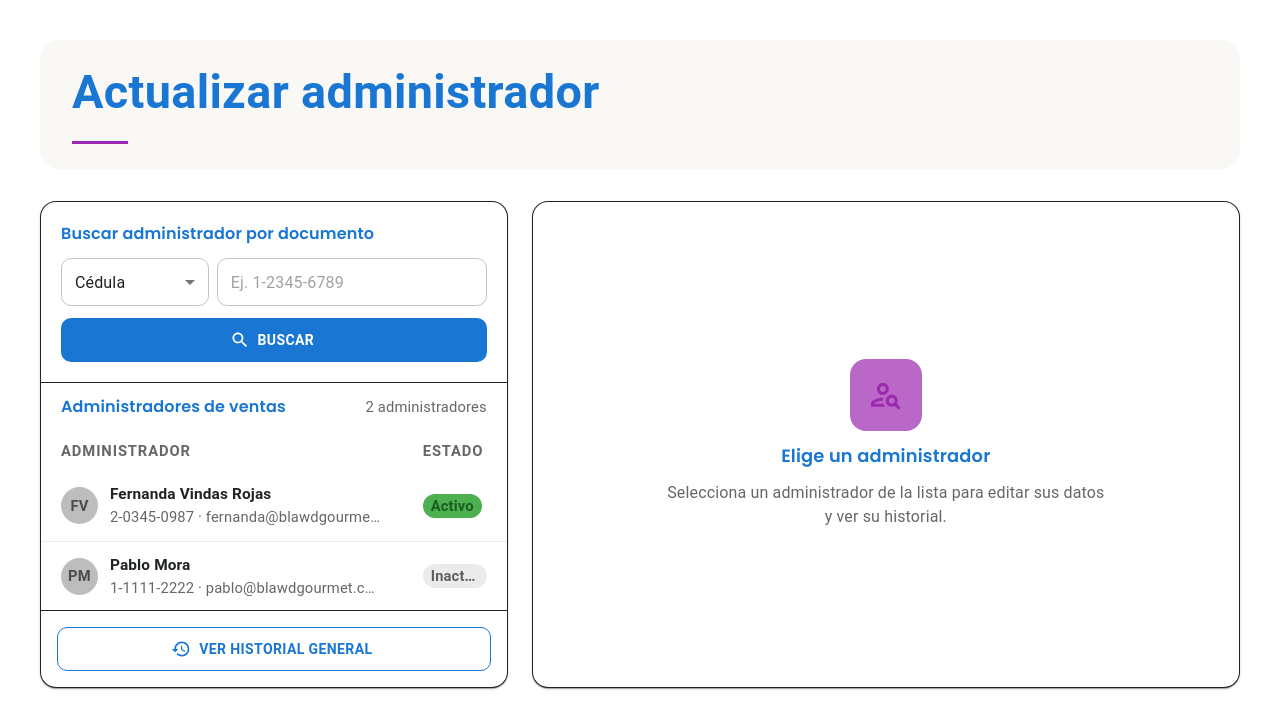
Test: EditAdmin (HU-007 · Tasks 93, 94 y 95) › Task 93 · búsqueda y formulario prellenado › busca por tipo y número de documento y avisa si no hay coincidencias
The width and height of the screenshot is (1280, 720).
Expected: the text "Fernanda Vindas Rojas" is shown, [110,485,271,503]
Type "1-1111-2222" into the field named "Número de documento" at (352, 282), box [217,258,487,306]
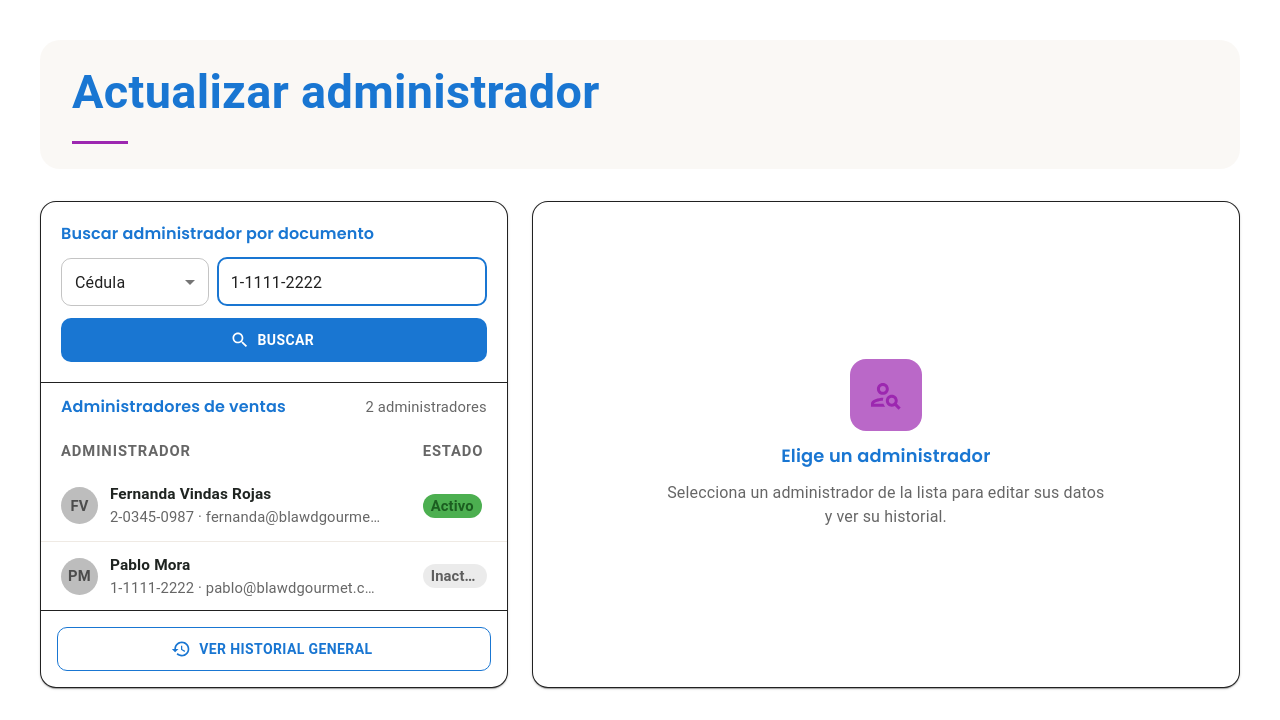
Click the button "Buscar" at (274, 340), box [61,318,487,362]
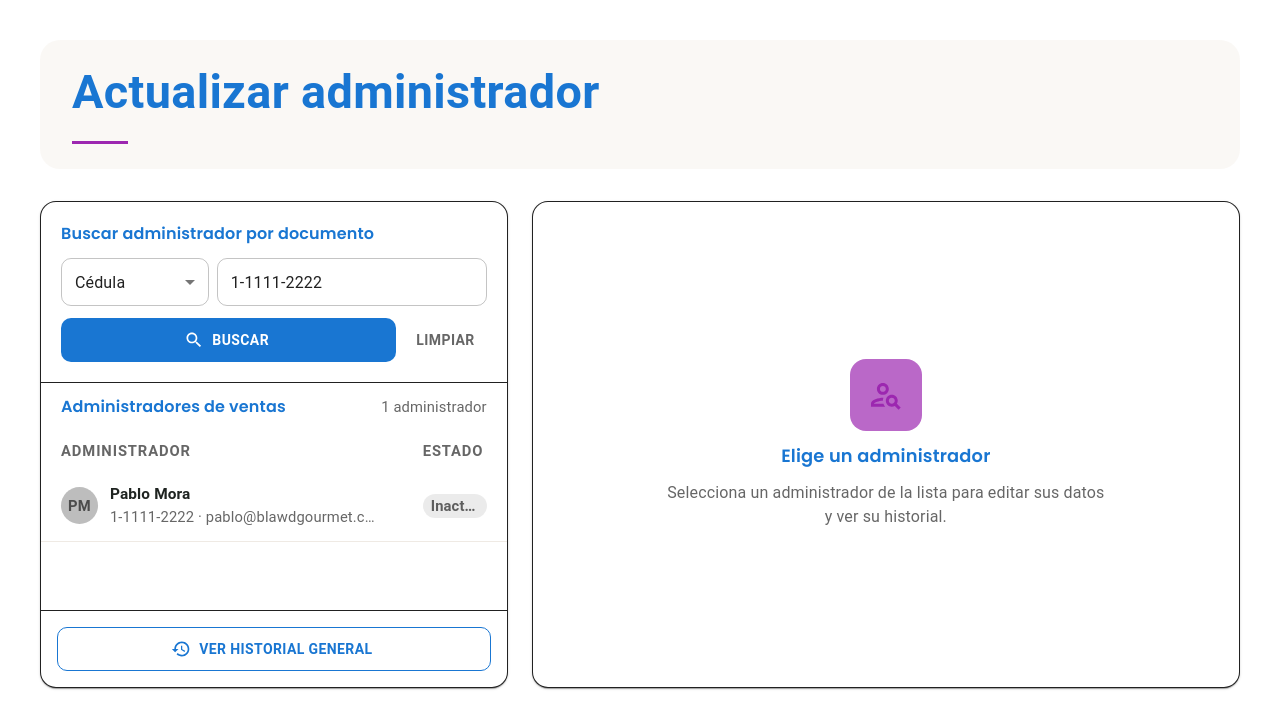
Expected: the text "Pablo Mora" is shown, [110,485,190,503]
Expected: the text "Fernanda Vindas Rojas" is gone
Replace the text in the field named "Número de documento" with "9-9999-9999" at (352, 282), box [217,258,487,306]
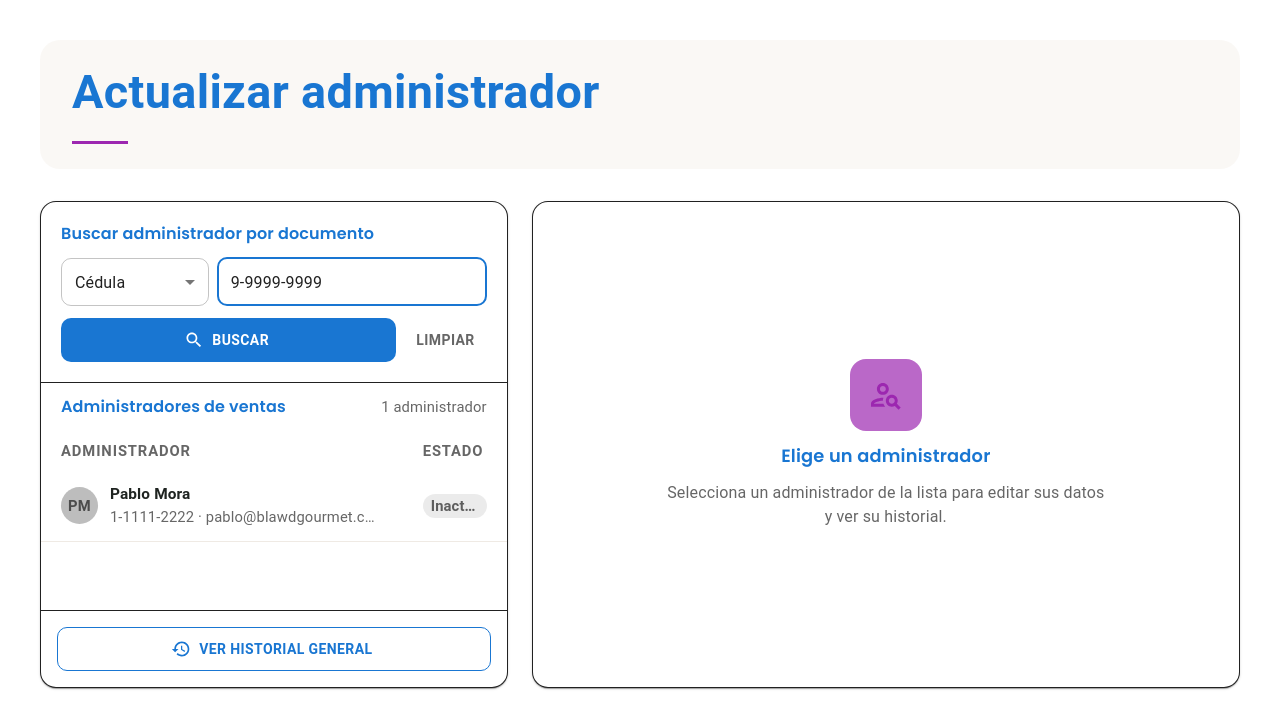
Click the button "Buscar" at (229, 340), box [61,318,396,362]
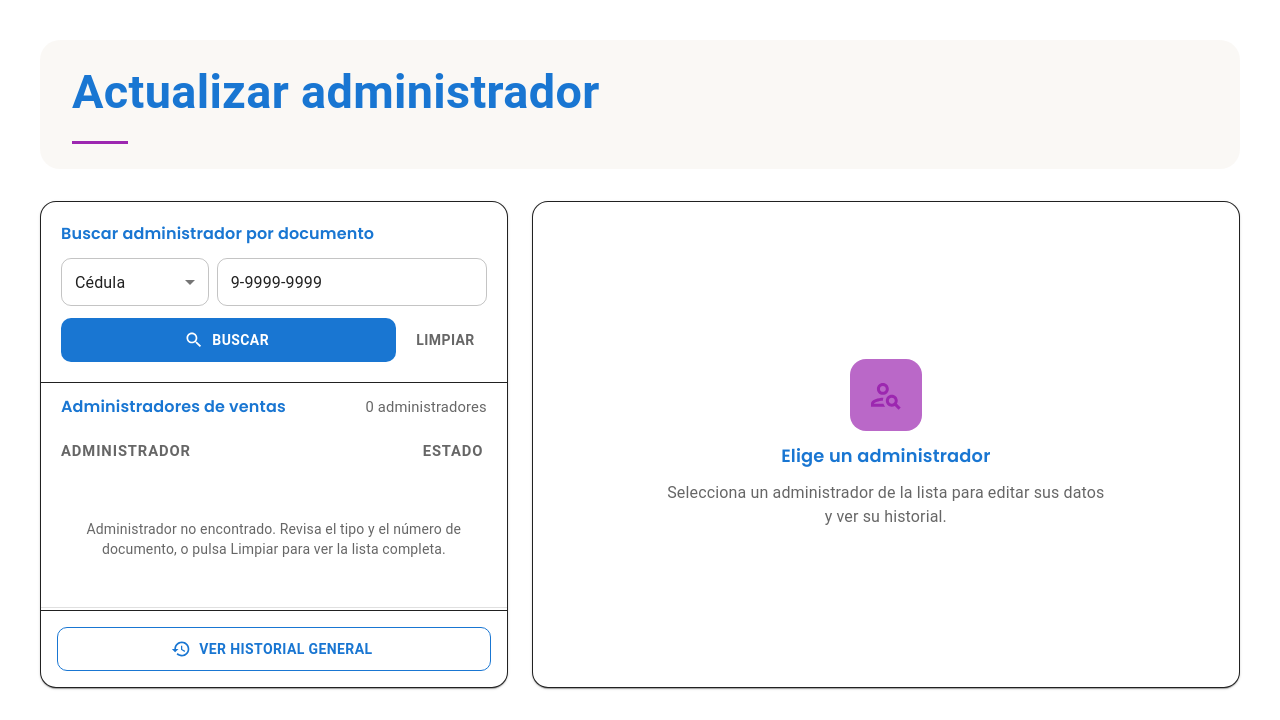
Expected: the text "Administrador no encontrado" is shown, [86,521,461,557]
Click the button "Limpiar" at (445, 340), box [404,318,487,362]
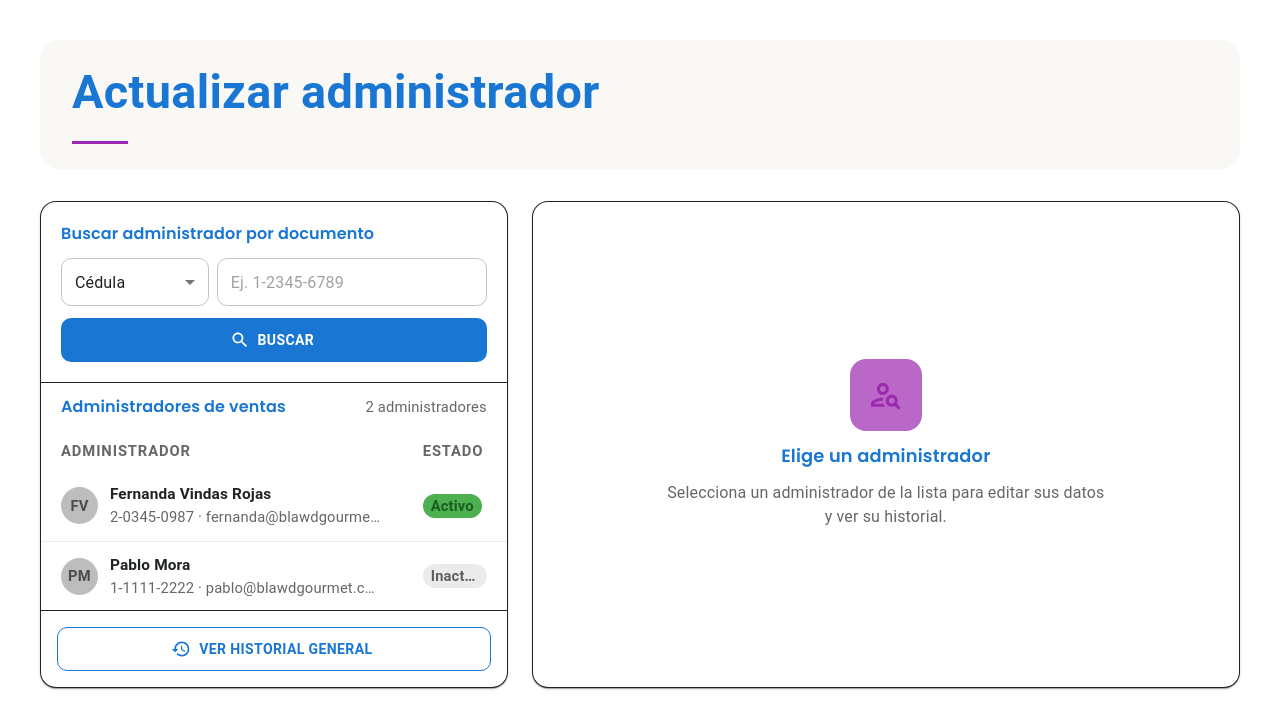
Expected: the text "Fernanda Vindas Rojas" is shown, [110,485,271,503]
